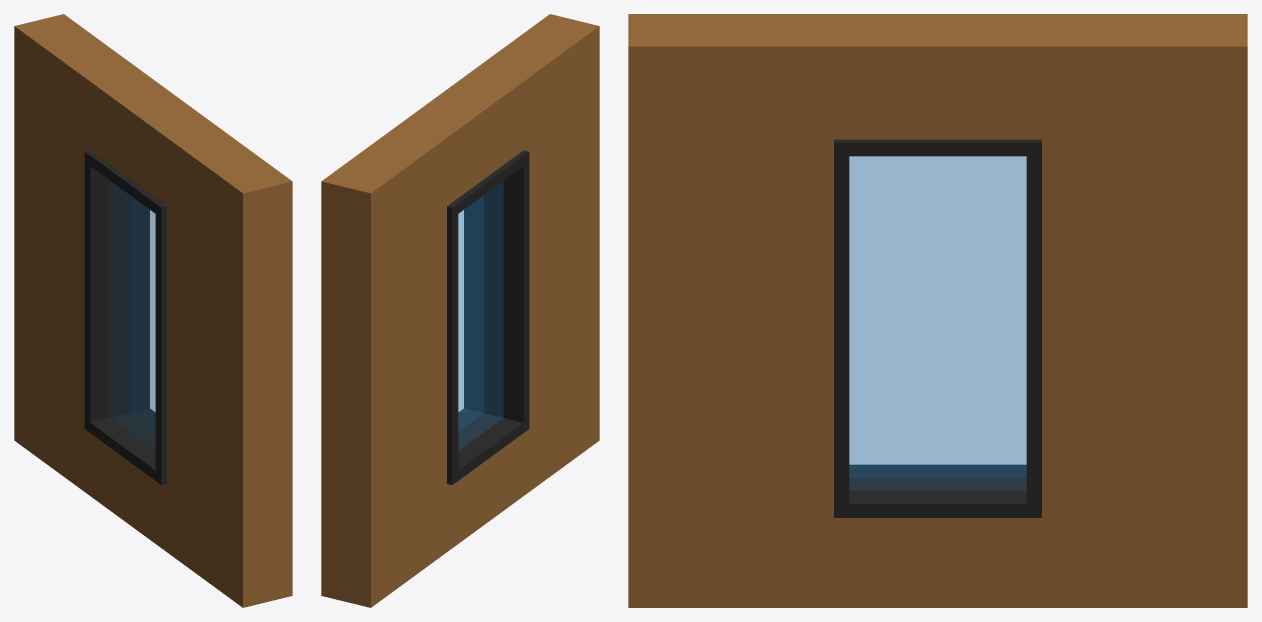
Rendered from WindowWallSingleDoor.glb.
The picture shows the model from 3 angles, left to right: view 1: azimuth 30°, elevation 25°; view 2: azimuth 150°, elevation 25°; view 3: azimuth 270°, elevation 25°; orthographic projection. The views are drawn at different scales.
Parts seen in each view (by area): view 1: WindowWall-col; view 2: WindowWall-col; view 3: WindowWall-col.
Part boxes in pixels (x1,y1,x2,y2): WindowWall-col: (14,14,292,607); WindowWall-col: (321,14,599,607); WindowWall-col: (628,14,1247,607).
Size of the model in its own units: 0.36 by 2.4 by 2.4.
